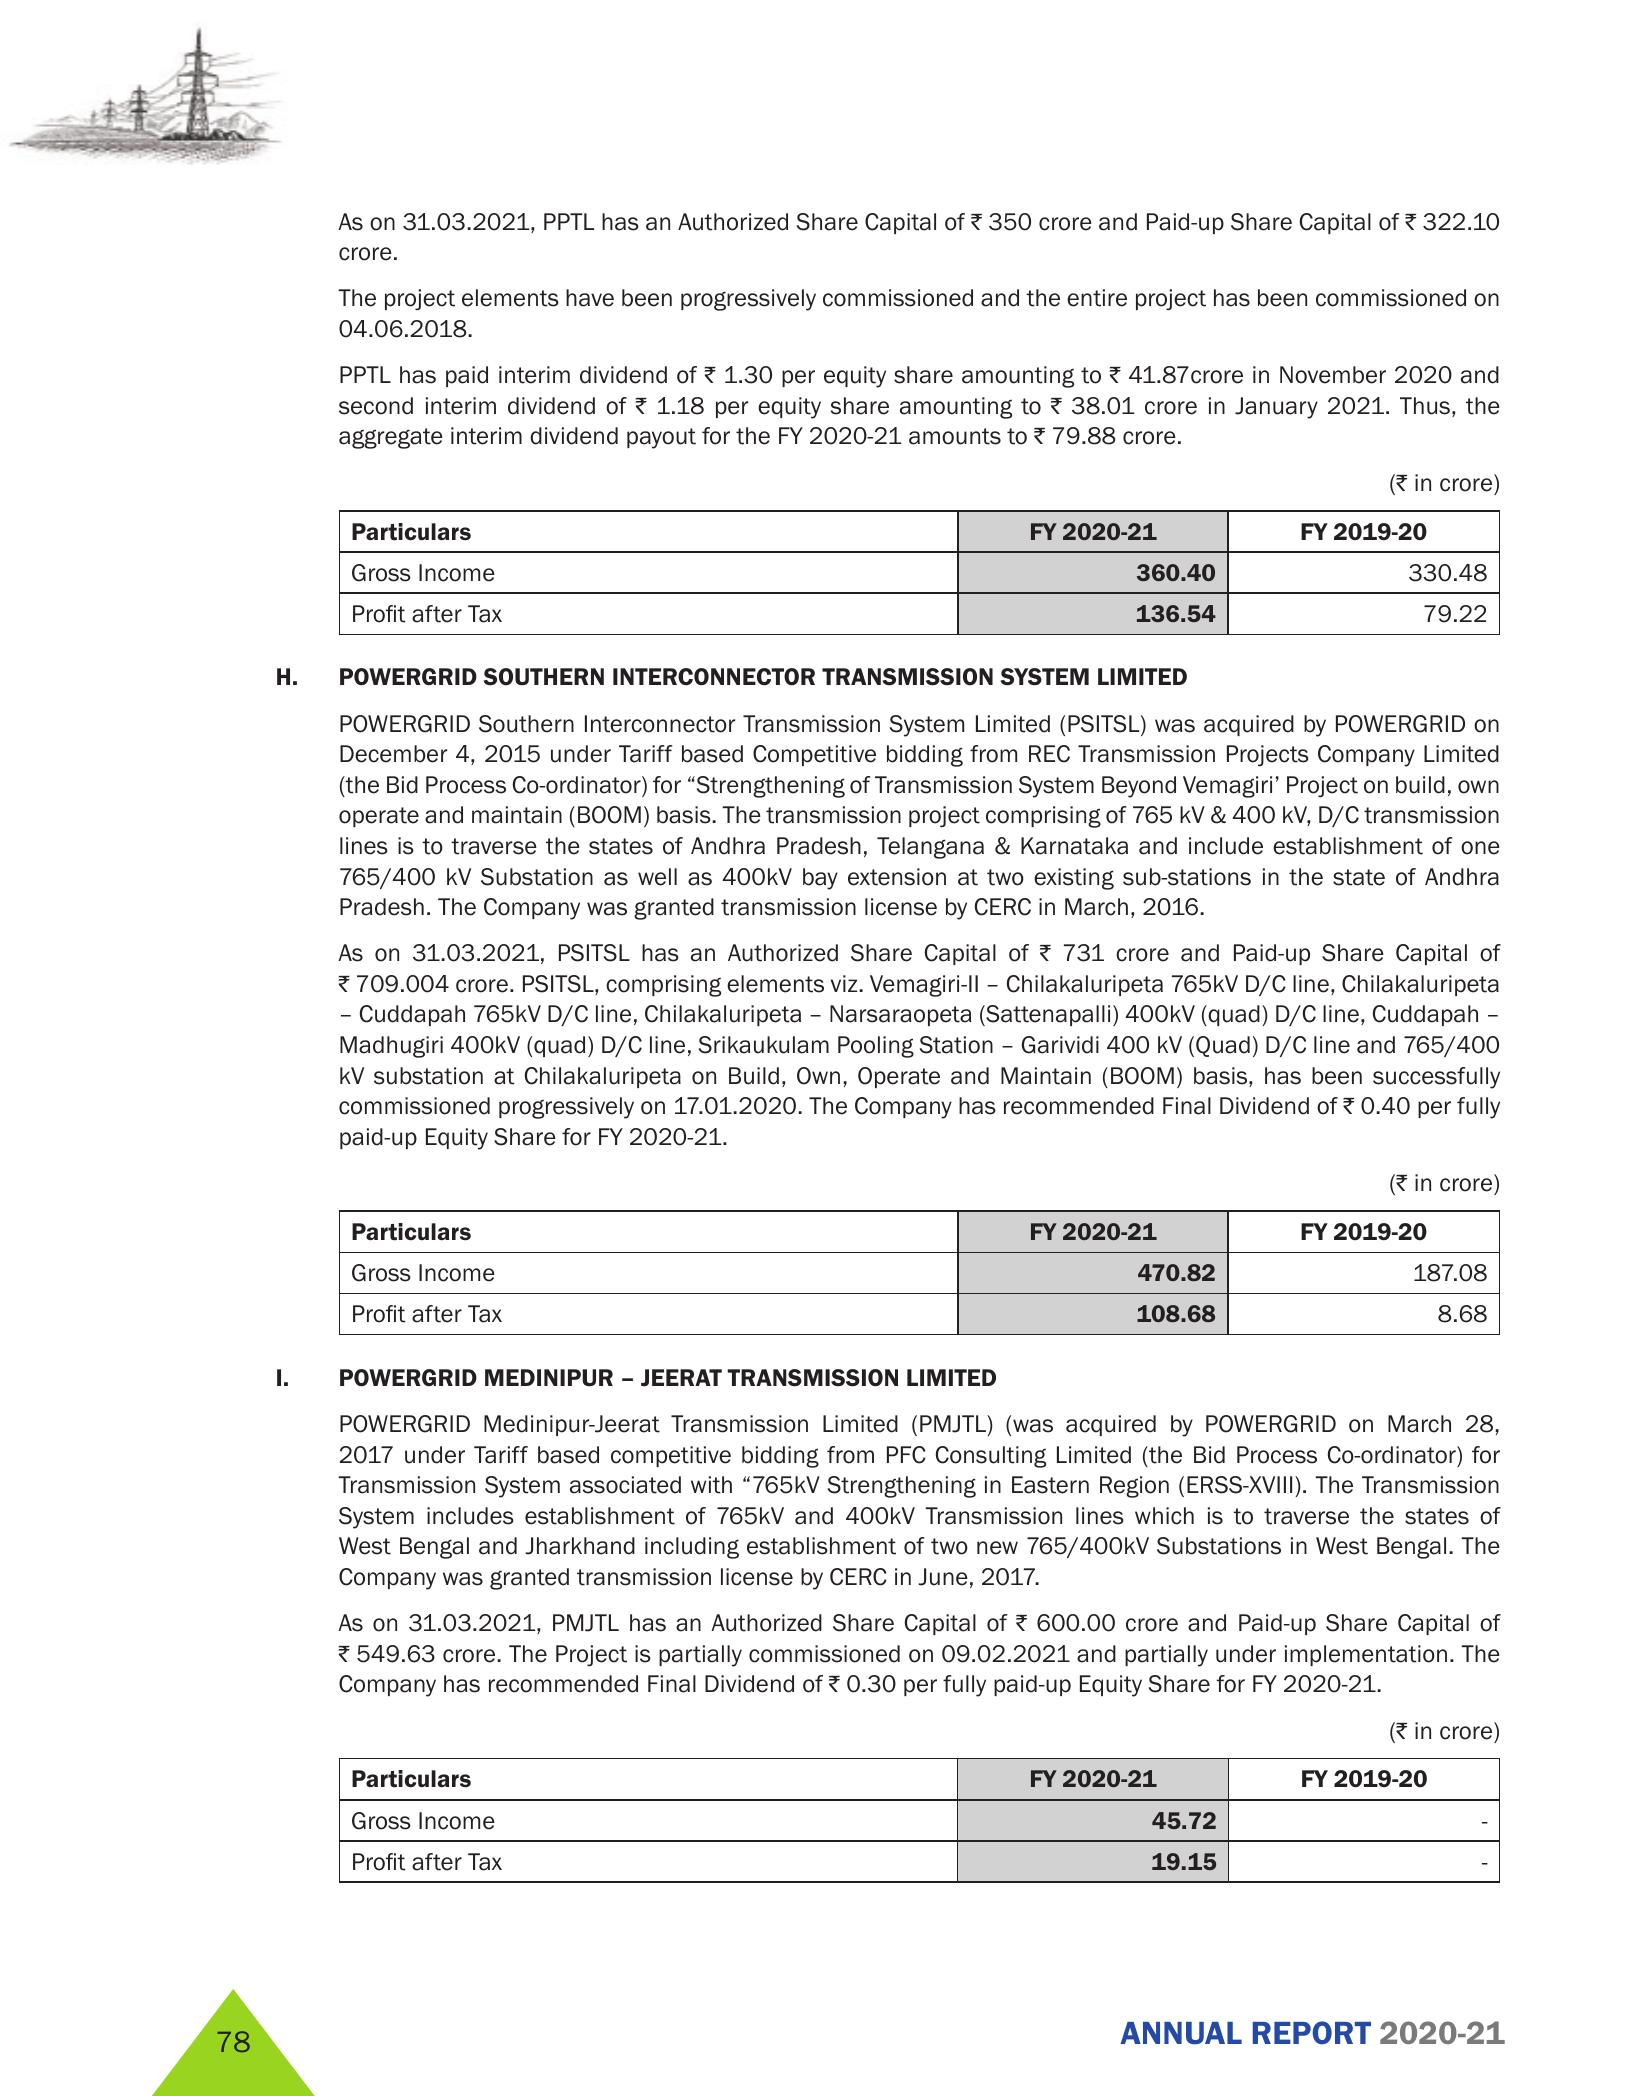Footer: (0, 1968, 1650, 2096)
Header: (0, 0, 1650, 184)
Table: (201, 478, 1528, 662), (265, 1717, 1524, 1904), (257, 1177, 1528, 1336)
